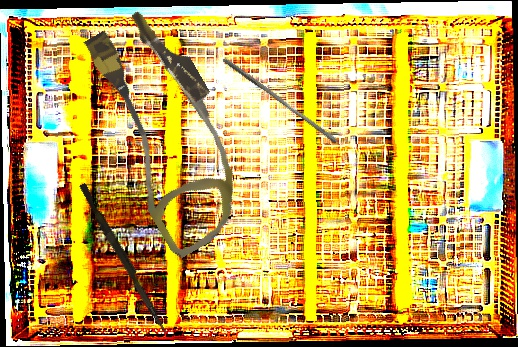Cannula: (59, 0, 275, 261)
Pusher: (75, 182, 173, 335), (218, 56, 342, 145)
